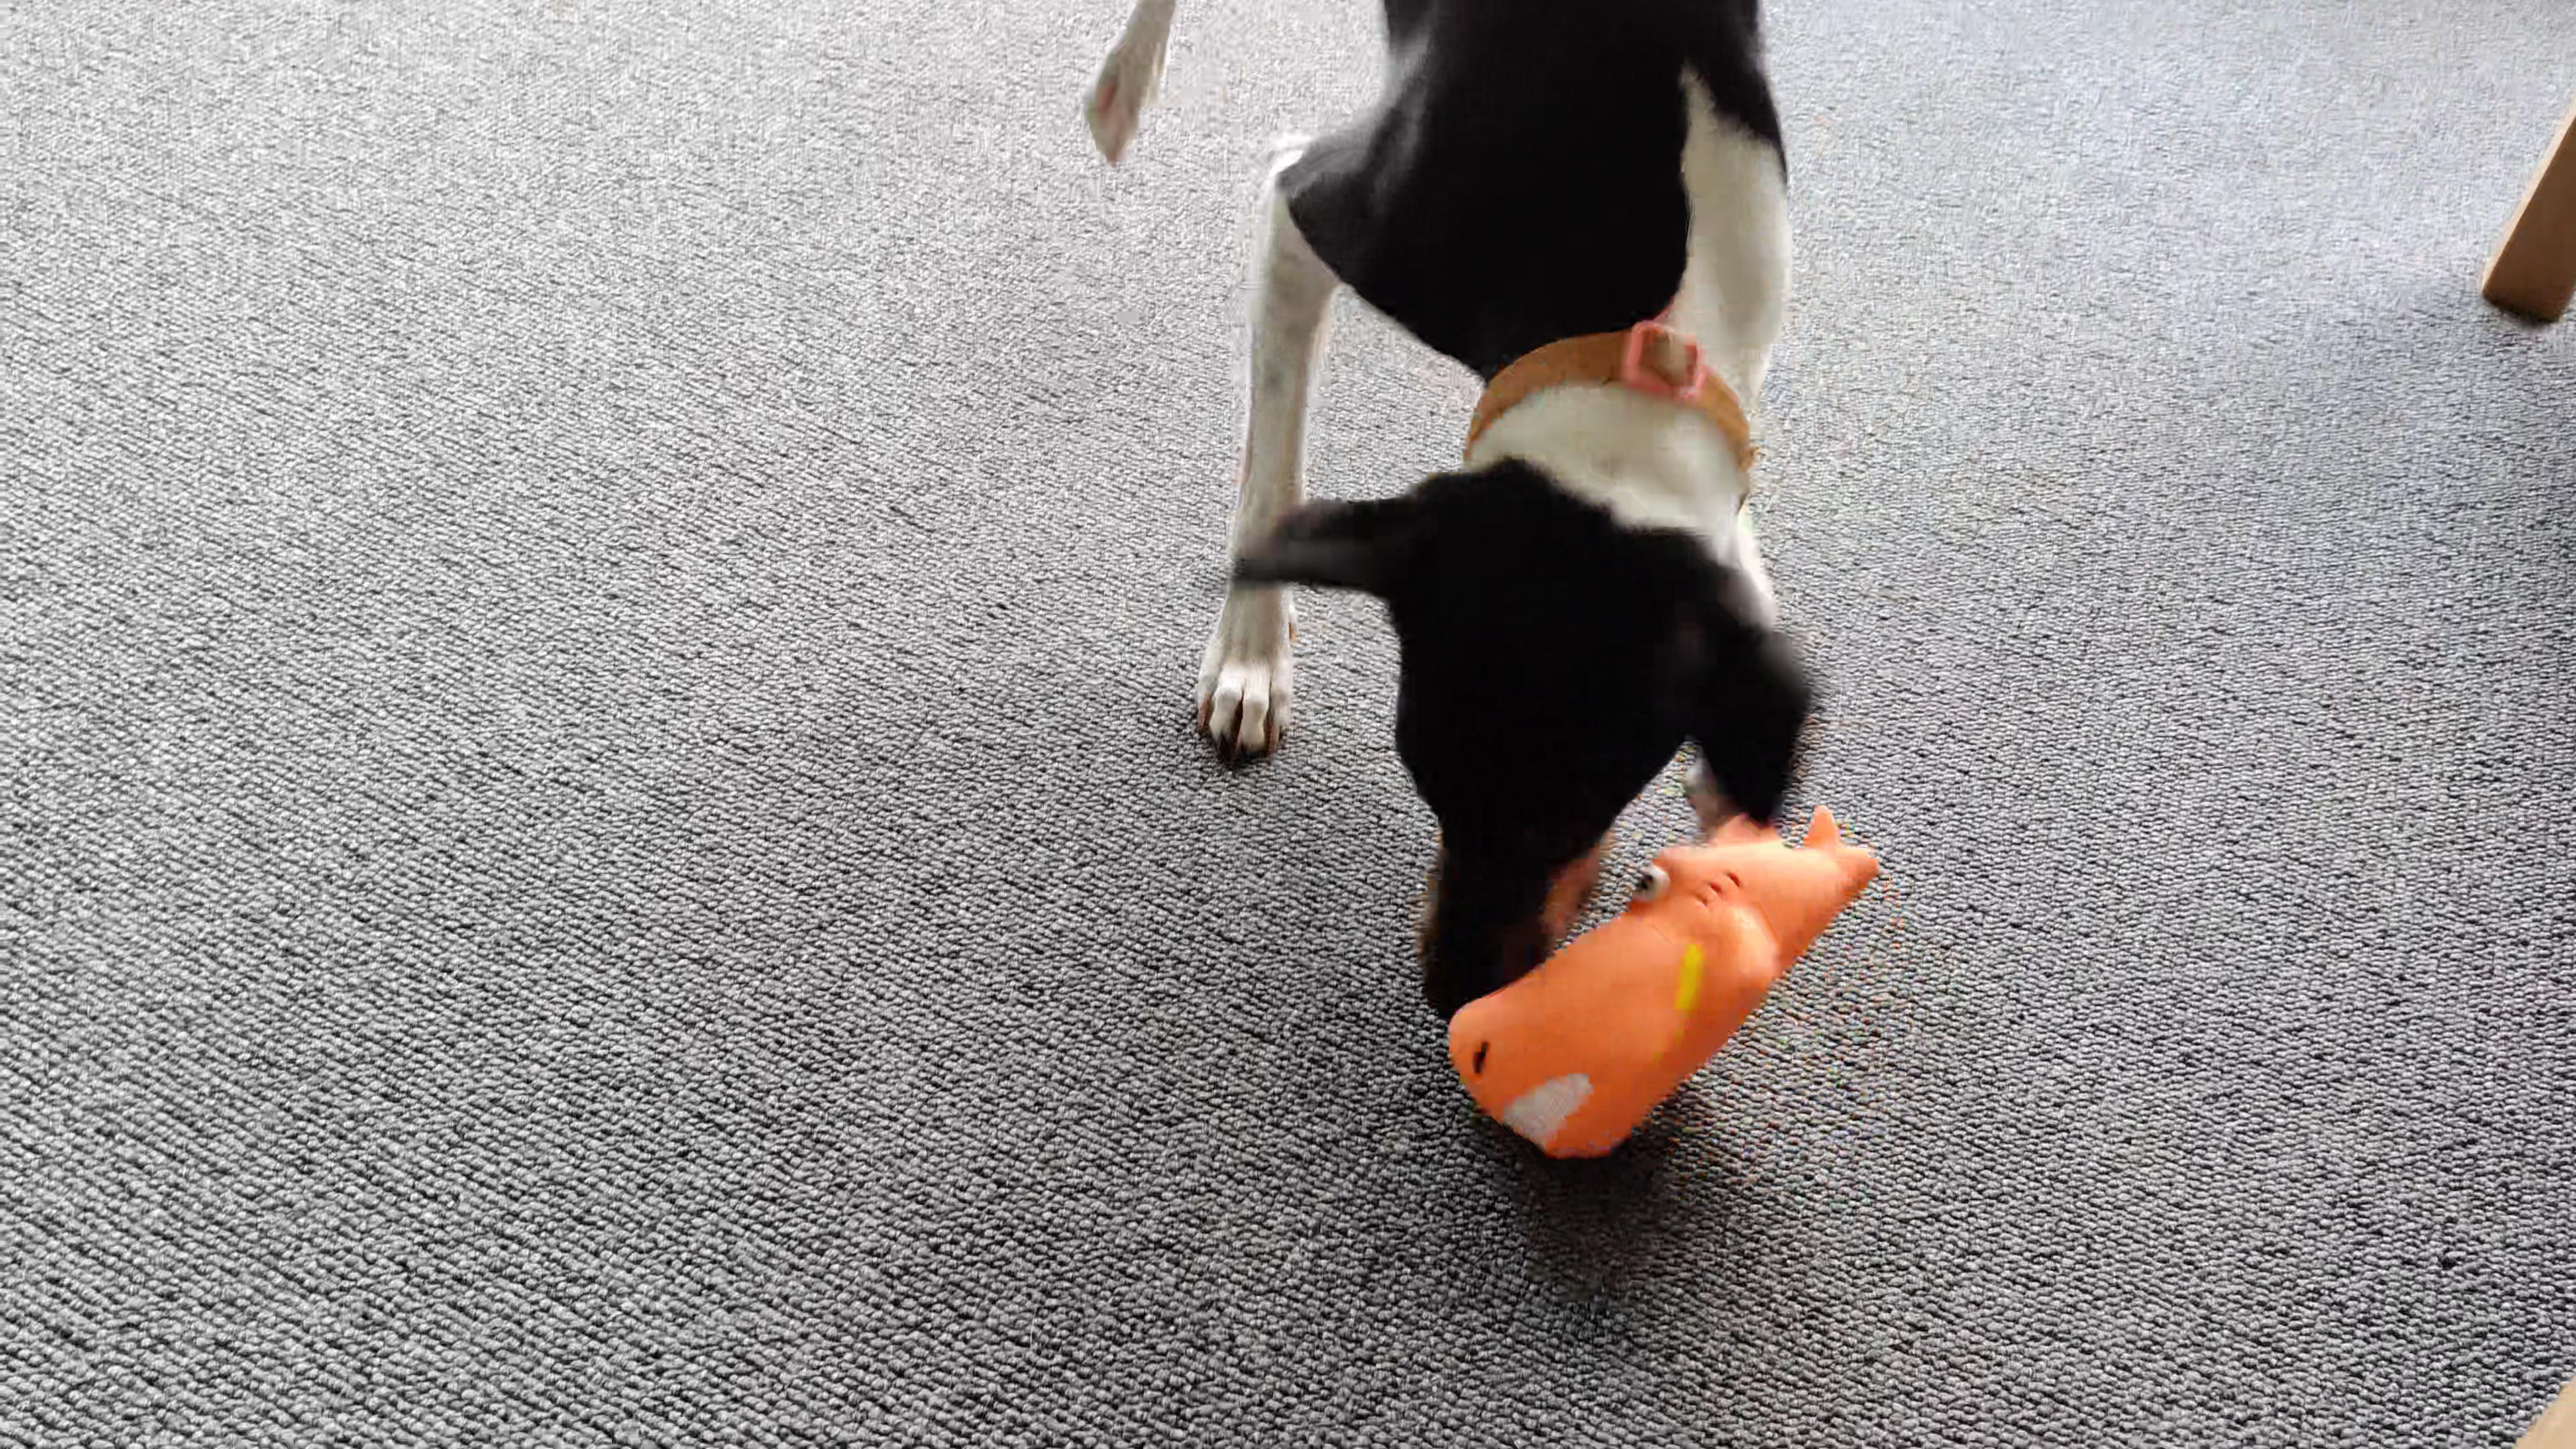Dog: (1076, 0, 1833, 1051)
